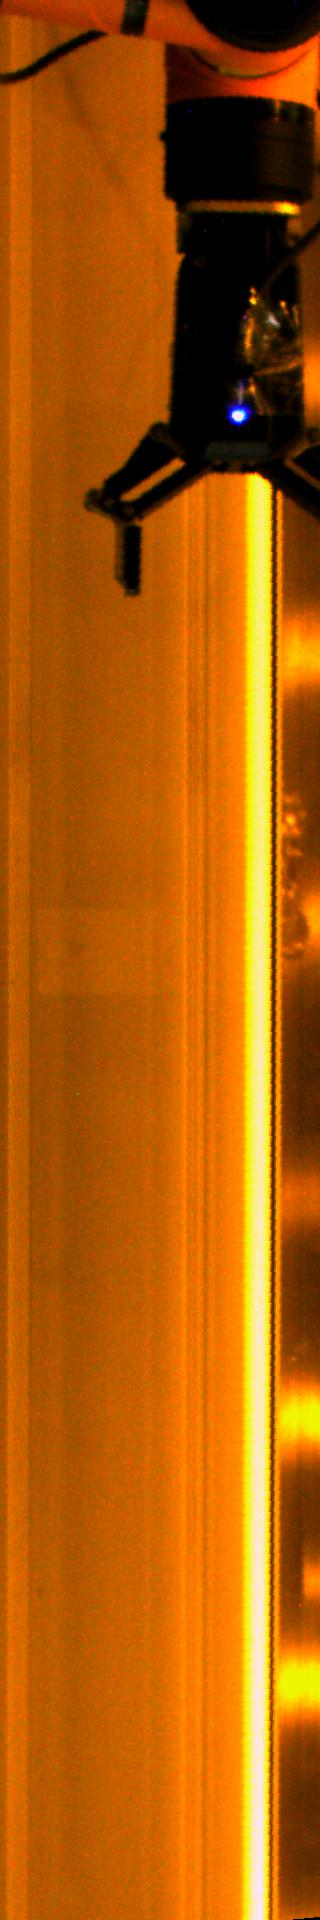keyPoint_1: (224, 400, 254, 431)
